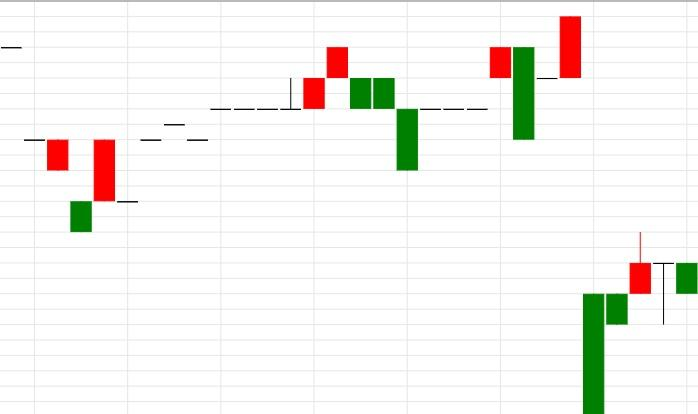bearish_engulfing_fall: (396, 46, 535, 171)
evening_star_fall: (582, 232, 698, 413)
